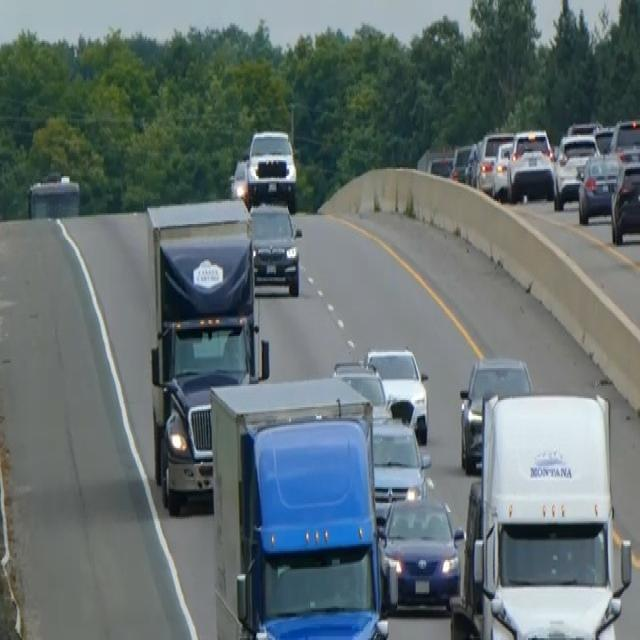car: (379, 491, 464, 612), (458, 354, 532, 473), (370, 414, 431, 528), (364, 345, 429, 441), (248, 199, 303, 297), (245, 126, 297, 208), (332, 359, 394, 427), (552, 132, 599, 210), (507, 126, 555, 201), (576, 149, 621, 224), (609, 157, 639, 246), (474, 130, 513, 196), (609, 115, 639, 163), (491, 137, 514, 199), (450, 142, 474, 183), (230, 154, 249, 202), (593, 122, 614, 154)
lorry: (57, 196, 270, 514), (469, 388, 632, 638)
